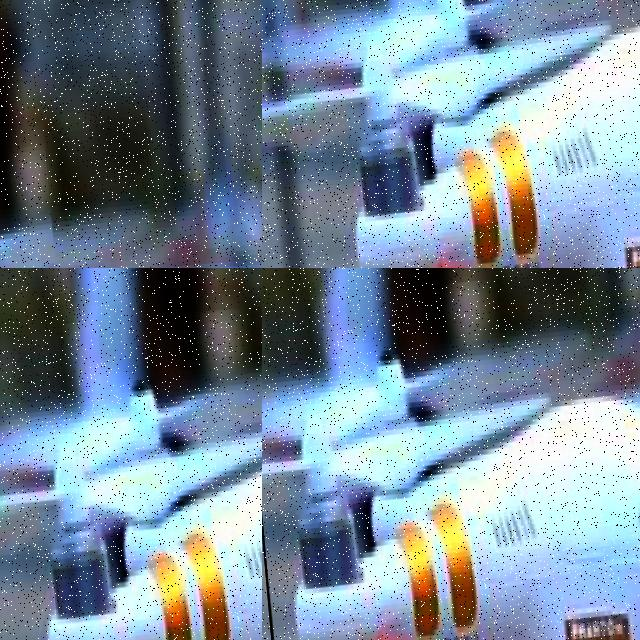drone: (262, 268, 640, 640), (262, 0, 640, 268), (0, 286, 262, 640), (0, 0, 78, 268)
